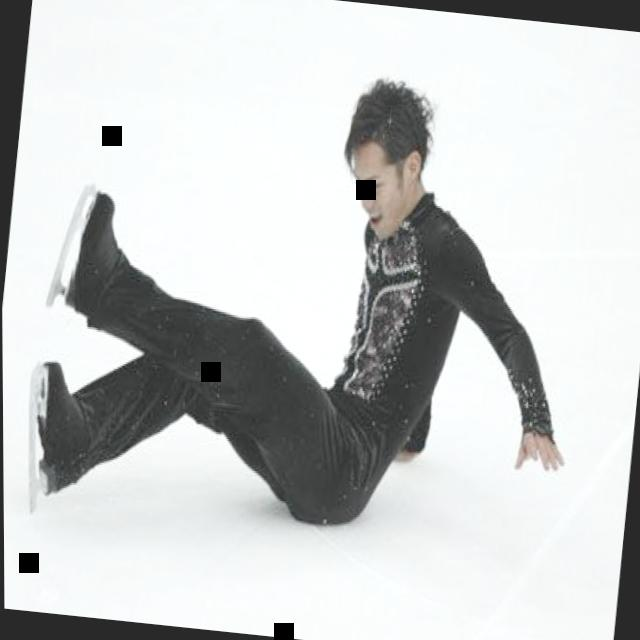Fall-Detected: (0, 22, 630, 594)
